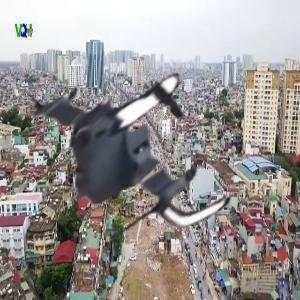drone: (23, 39, 244, 260)
